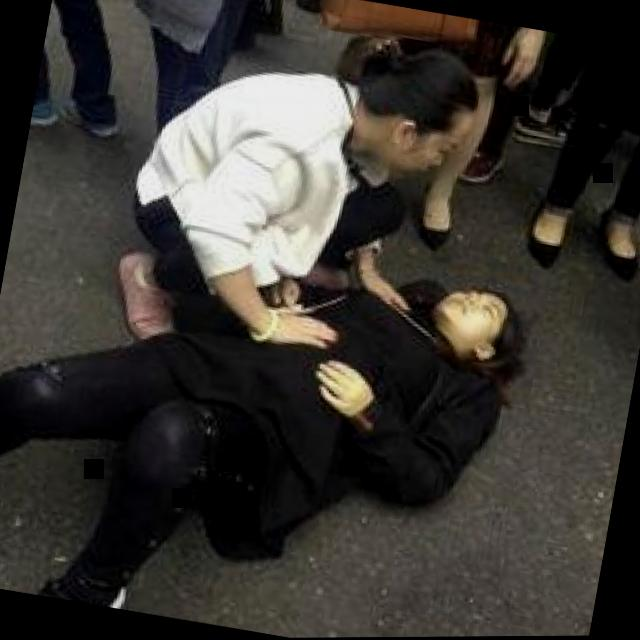Fall-Detected: (0, 185, 553, 640)
